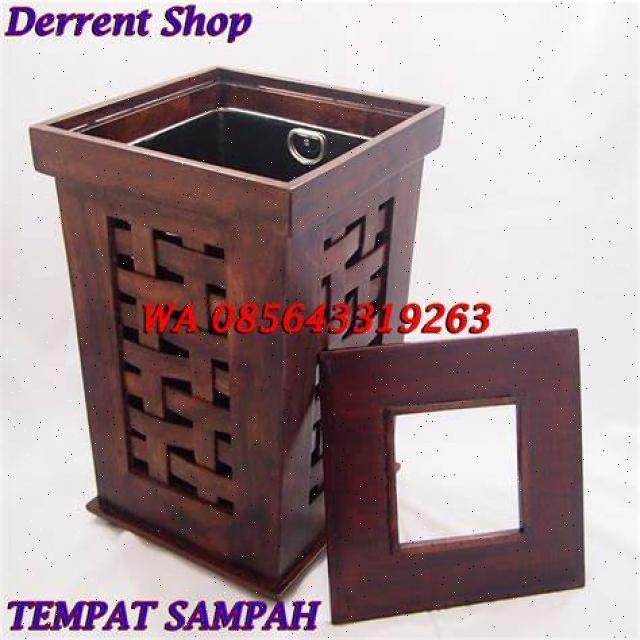garbage container: (15, 62, 576, 580)
